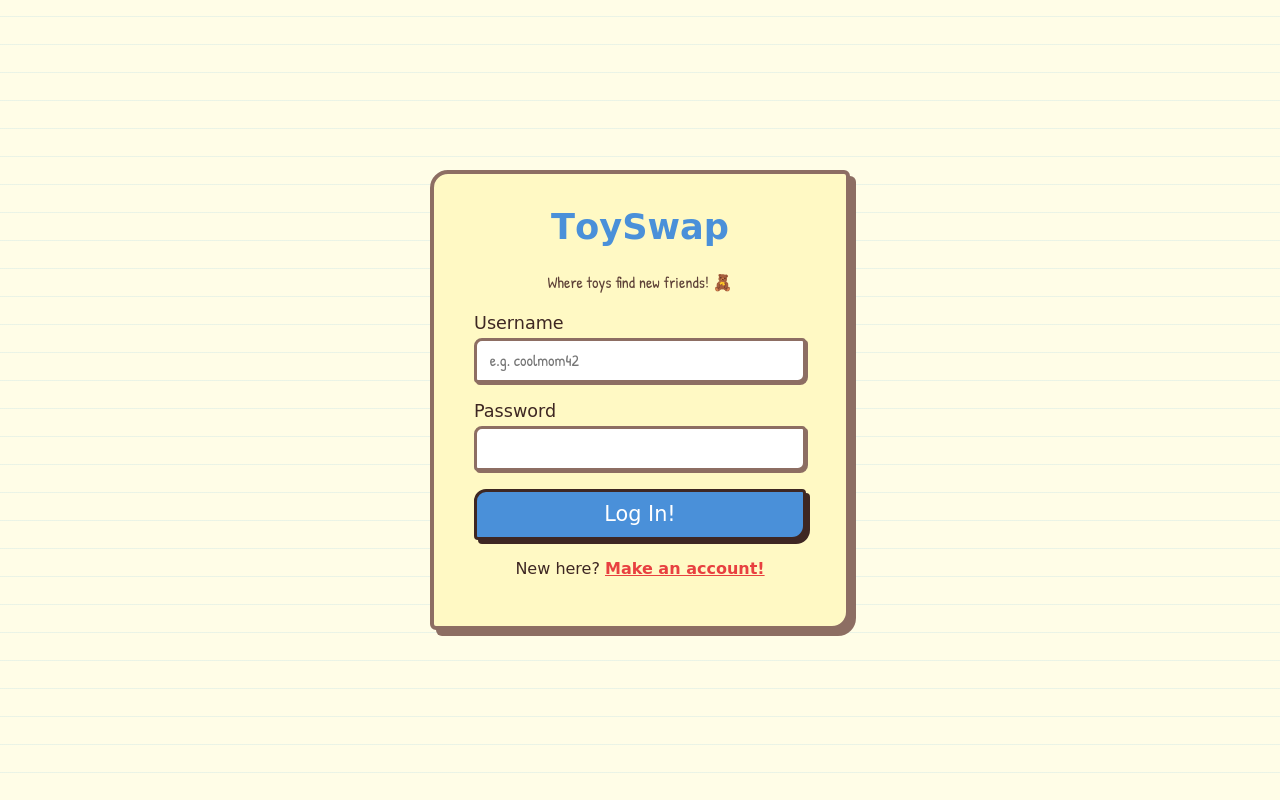
Test: LoginPage › login button is disabled while request is in flight
In the field labelled "Username": (640, 360) [474, 338, 806, 383], type "asmith"
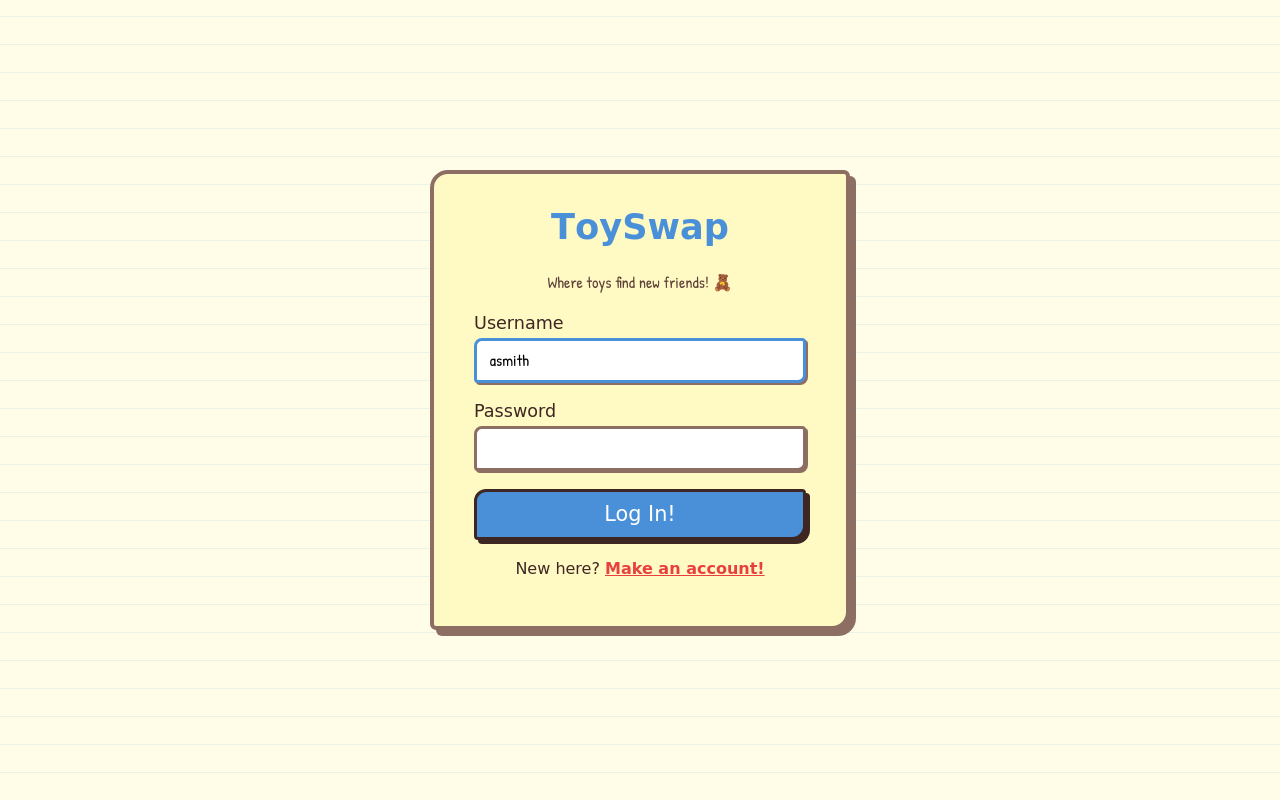
In the password field labelled "Password": (640, 448) [474, 426, 806, 471], type "secret"
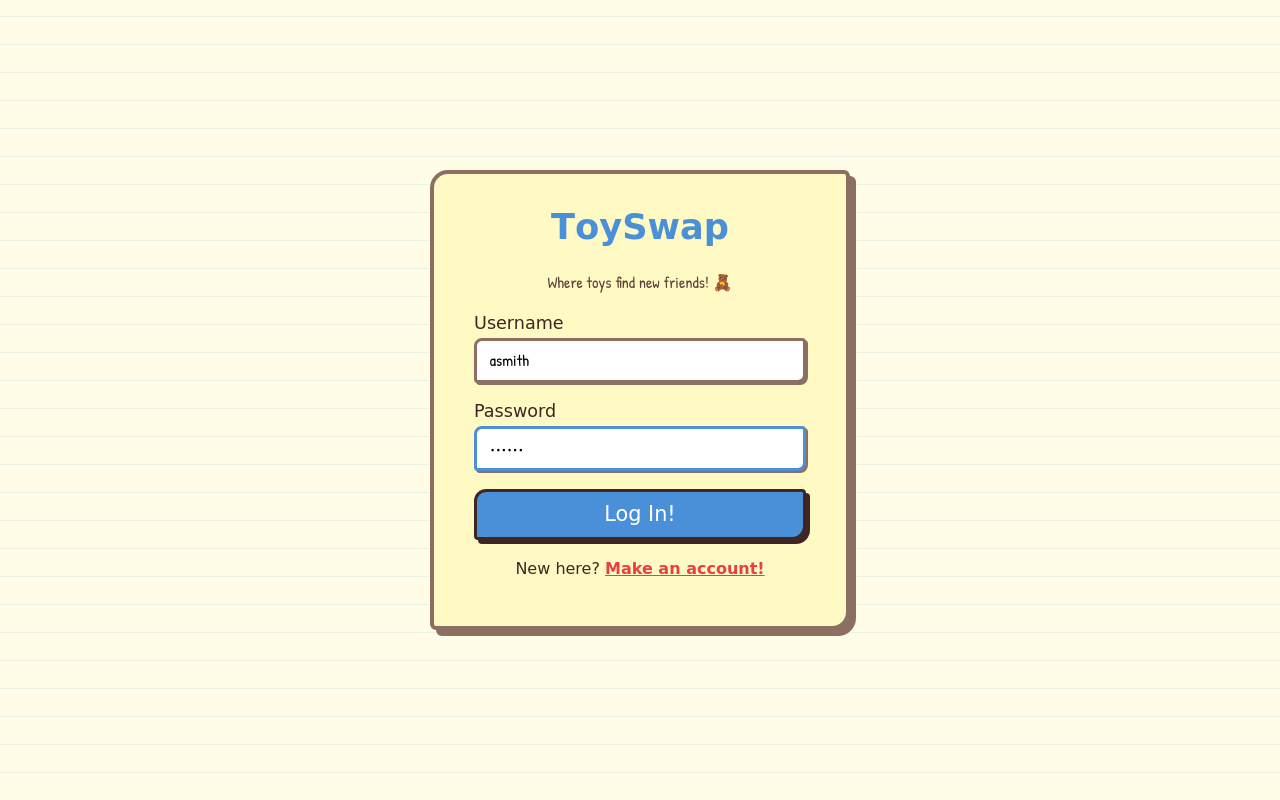
Click the button "Log In!": (640, 514) [474, 489, 806, 540]
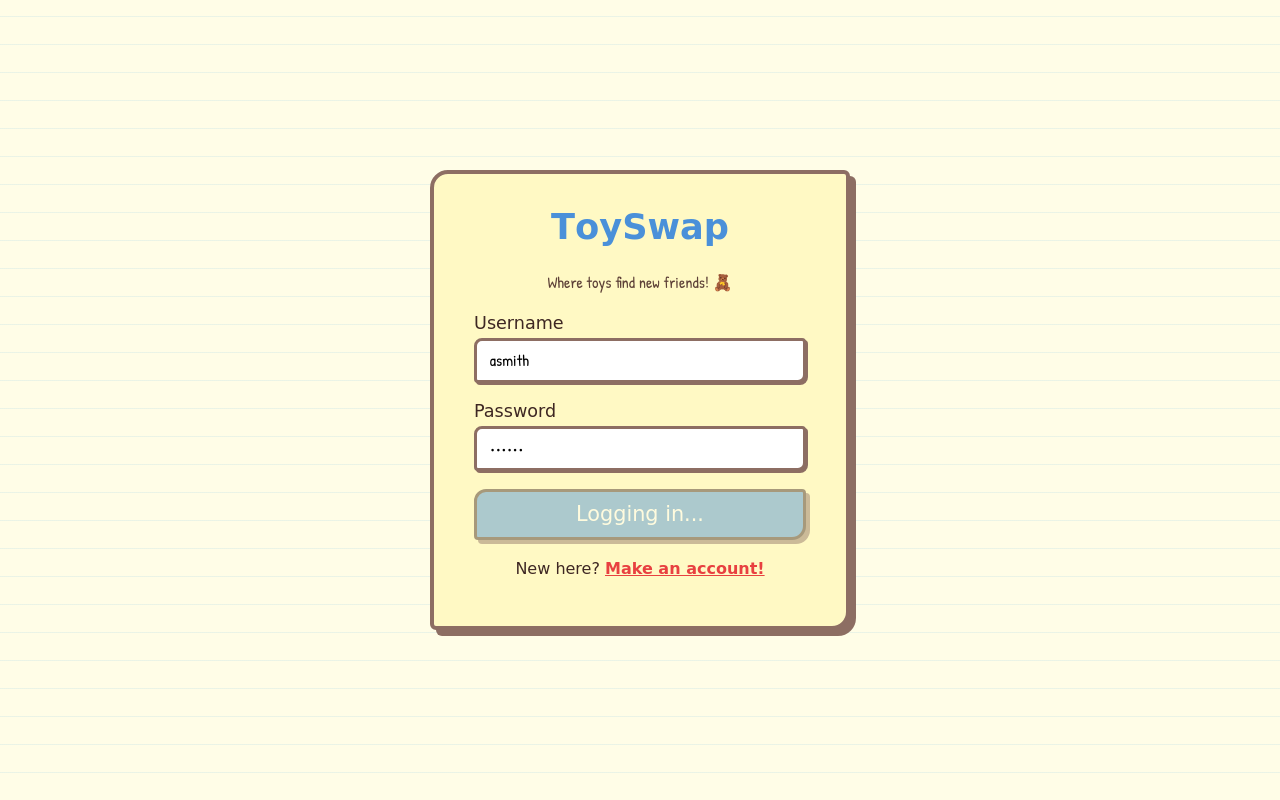
Expected: the button named "log in" is disabled, [474, 489, 806, 540]
